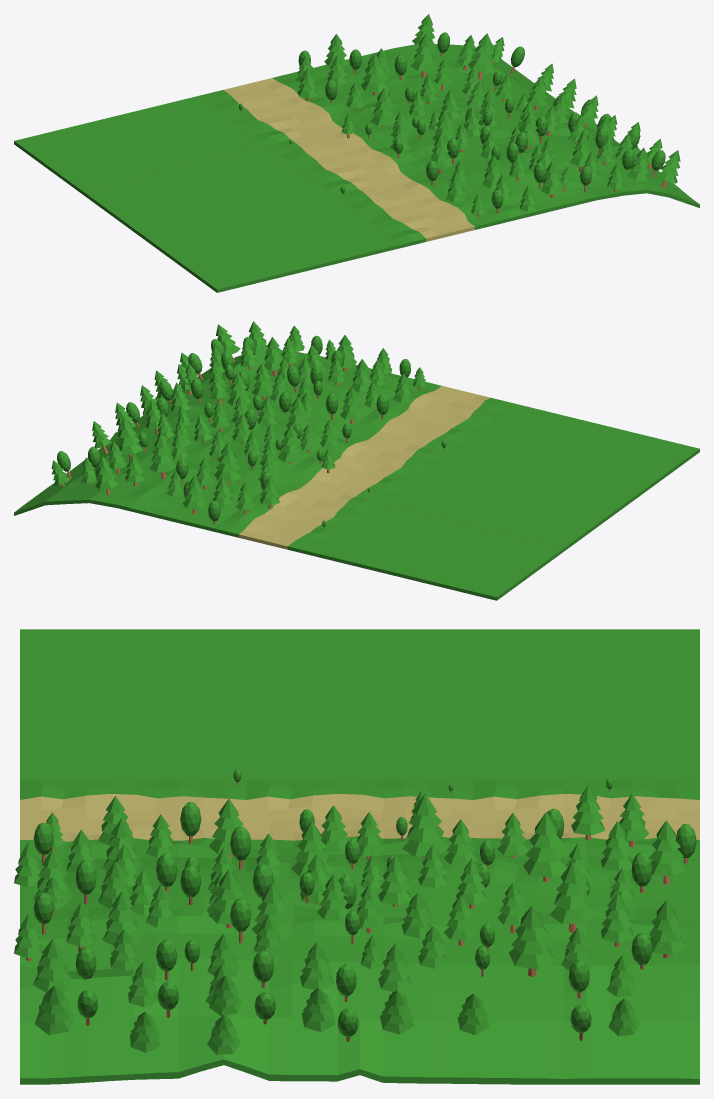
Rendered from Environment.glb.
The picture shows the model from 3 angles, top to bottom: view 1: azimuth 30°, elevation 25°; view 2: azimuth 150°, elevation 25°; view 3: azimuth 270°, elevation 25°; orthographic projection. The views are drawn at different scales.
Visible parts, largest first — view 1: Cube.020, Cylinder.040, Cylinder.033, Cylinder.037, Cylinder.019, Cylinder.034, Cylinder.078, Cylinder.070, Cylinder.055, Cylinder.056; view 2: Cube.020, Cylinder.037, Cylinder.033, Cylinder.040, Cylinder.019, Cylinder.026, Cylinder.066, Cylinder.055, Cylinder.059, Cylinder.056, Cylinder.052; view 3: Cube.020, Cylinder.040, Cylinder.033, Cylinder.037, Cylinder.019, Cylinder.026, Cylinder.066, Cylinder.070, Cylinder.078, Cylinder.056, Cylinder.041, Cylinder.028 (+44 smaller).
Boxes of the visible parts, x1=… form: Cube.020: x1=14, y1=44, x2=699, y2=292; Cylinder.040: x1=468, y1=33, x2=494, y2=80; Cylinder.033: x1=361, y1=53, x2=388, y2=94; Cylinder.037: x1=410, y1=33, x2=437, y2=77; Cylinder.019: x1=370, y1=88, x2=396, y2=126; Cylinder.034: x1=540, y1=161, x2=563, y2=197; Cylinder.078: x1=656, y1=150, x2=680, y2=188; Cylinder.070: x1=627, y1=148, x2=650, y2=181; Cylinder.055: x1=430, y1=136, x2=451, y2=173; Cylinder.056: x1=570, y1=133, x2=590, y2=172; Cube.020: x1=14, y1=350, x2=699, y2=600; Cylinder.037: x1=149, y1=434, x2=176, y2=478; Cylinder.033: x1=214, y1=443, x2=241, y2=484; Cylinder.040: x1=116, y1=416, x2=142, y2=460; Cylinder.019: x1=278, y1=425, x2=304, y2=463; Cylinder.026: x1=182, y1=476, x2=206, y2=513; Cylinder.066: x1=95, y1=456, x2=118, y2=494; Cylinder.055: x1=340, y1=387, x2=363, y2=423; Cylinder.059: x1=252, y1=363, x2=273, y2=399; Cylinder.056: x1=264, y1=337, x2=282, y2=375; Cylinder.052: x1=352, y1=359, x2=371, y2=392; Cube.020: x1=20, y1=629, x2=699, y2=1084; Cylinder.040: x1=509, y1=906, x2=554, y2=976; Cylinder.033: x1=523, y1=812, x2=567, y2=881; Cylinder.037: x1=549, y1=861, x2=595, y2=932; Cylinder.019: x1=402, y1=793, x2=448, y2=858; Cylinder.026: x1=649, y1=820, x2=686, y2=884; Cylinder.066: x1=649, y1=900, x2=686, y2=958; Cylinder.070: x1=33, y1=939, x2=72, y2=992; Cylinder.078: x1=35, y1=985, x2=74, y2=1035; Cylinder.056: x1=102, y1=891, x2=141, y2=945; Cylinder.041: x1=601, y1=893, x2=633, y2=946; Cylinder.028: x1=571, y1=785, x2=605, y2=840.
Bounding box in the file's own units: 200 × 31.87 × 147.
